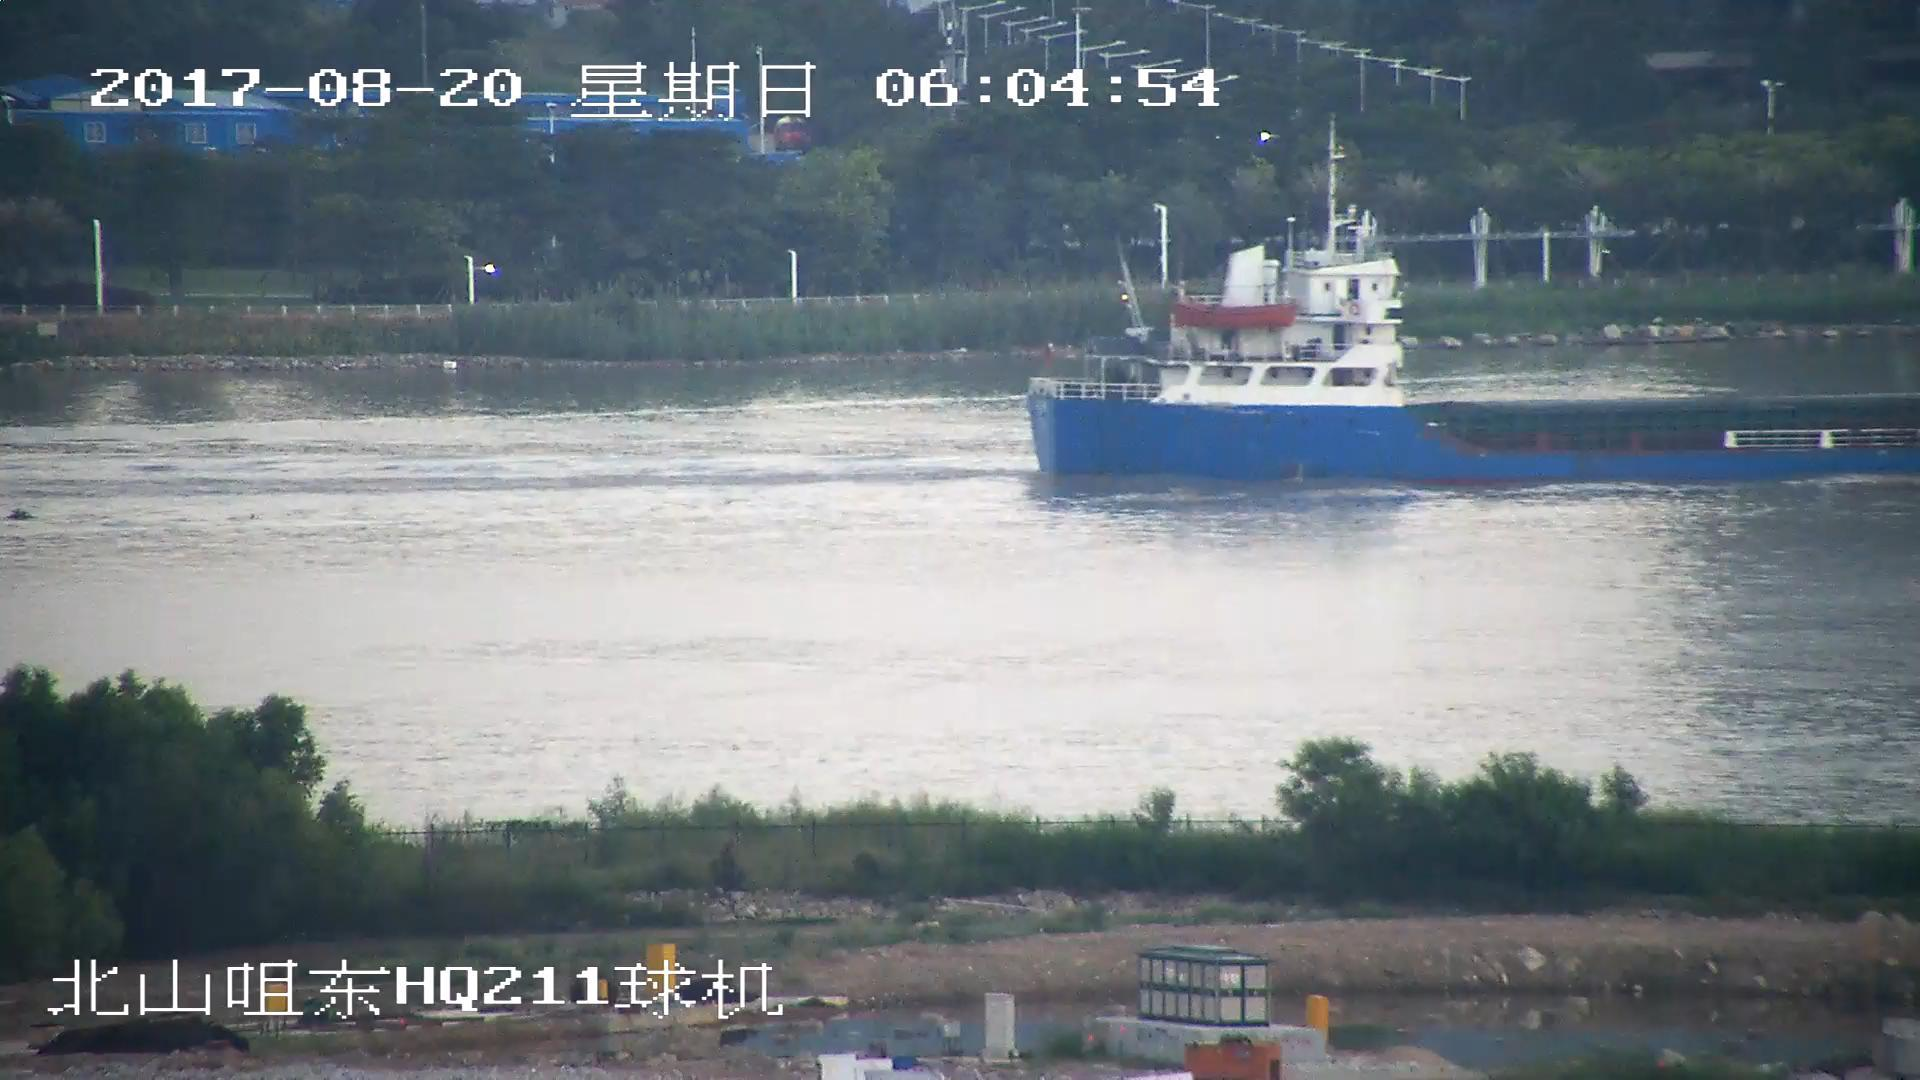Ship: (1034, 215, 1920, 487)
